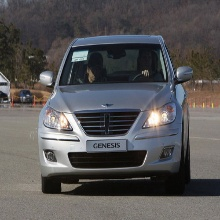no damage: (37, 35, 192, 193)
